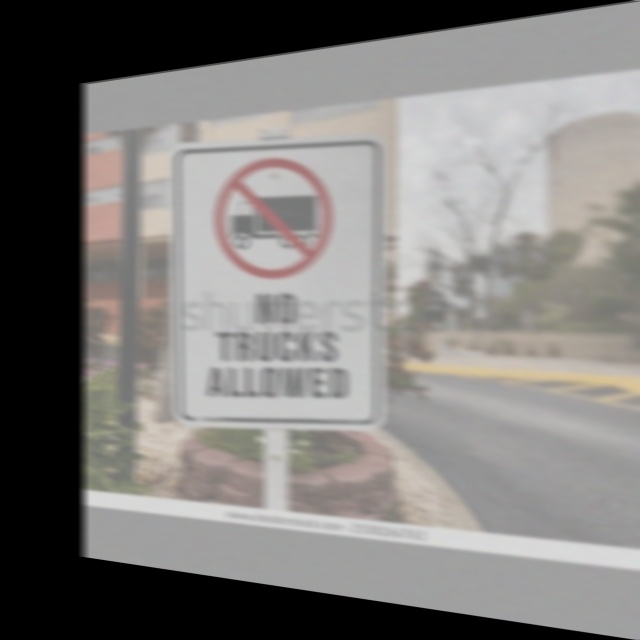Truck_Prohibited: (210, 143, 346, 287)
